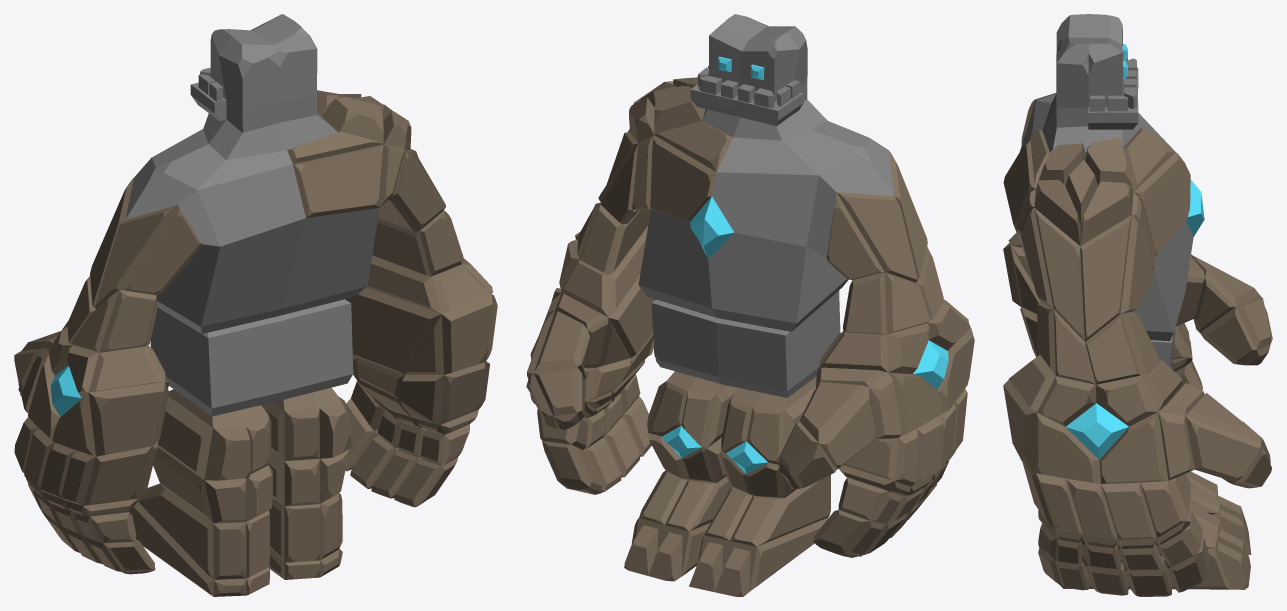
File: earth villian (1).fbx
3 views of the same model, side by side, from view 1: azimuth 30°, elevation 25°; view 2: azimuth 150°, elevation 25°; view 3: azimuth 270°, elevation 25° (orthographic). The views are drawn at different scales.
Parts seen in each view (by area): view 1: Cube; view 2: Cube; view 3: Cube.
Boxes of the visible parts, bbox=[...] form: Cube: bbox=[14, 14, 497, 596]; Cube: bbox=[526, 14, 974, 596]; Cube: bbox=[1003, 14, 1272, 596].
Size of the model in its own units: 293 by 361 by 166.
